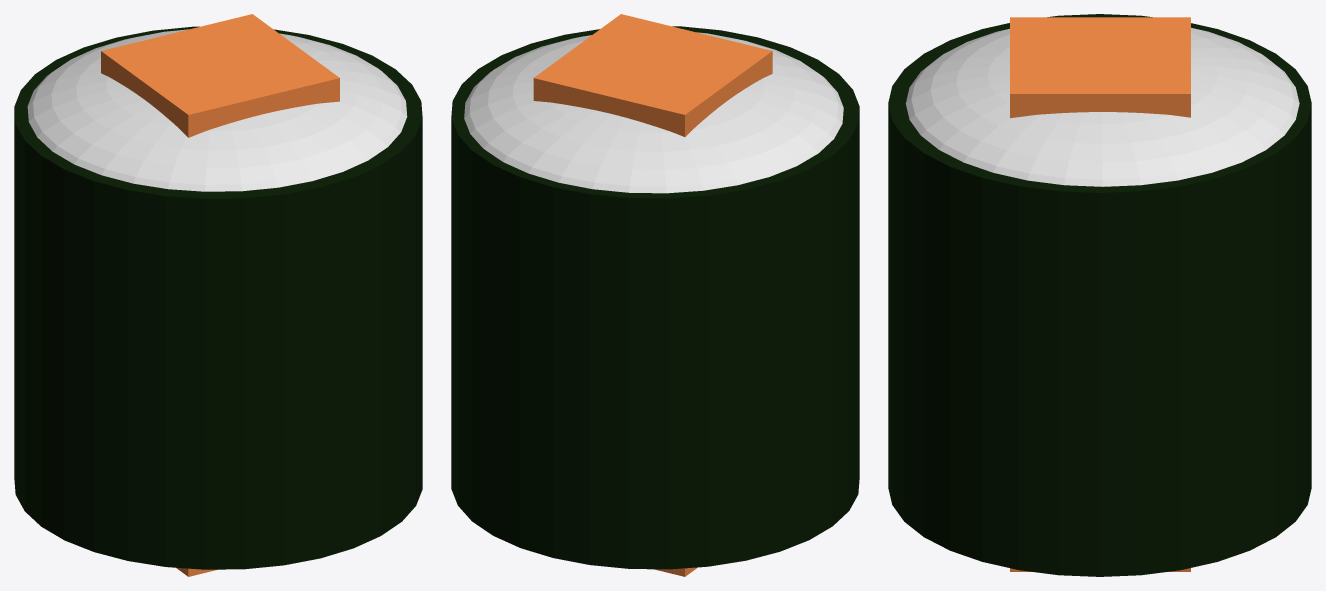
The model's file is SushiSimple.fbx.
The picture shows the model from 3 angles, left to right: view 1: azimuth 30°, elevation 25°; view 2: azimuth 150°, elevation 25°; view 3: azimuth 270°, elevation 25°; orthographic projection. The views are drawn at different scales.
Parts seen in each view (by area): view 1: Cylinder, Sphere, Cube; view 2: Cylinder, Sphere, Cube; view 3: Cylinder, Sphere, Cube.
Boxes of the visible parts, box(x1,y1,x2,y2) form: Cylinder: box(14, 26, 422, 569); Sphere: box(27, 29, 407, 191); Cube: box(101, 14, 339, 576); Cylinder: box(451, 26, 859, 569); Sphere: box(464, 32, 843, 193); Cube: box(533, 14, 772, 576); Cylinder: box(888, 14, 1311, 576); Sphere: box(905, 27, 1299, 186); Cube: box(1010, 17, 1190, 571).
Bounding box in the file's own units: 200 × 249 × 200.
